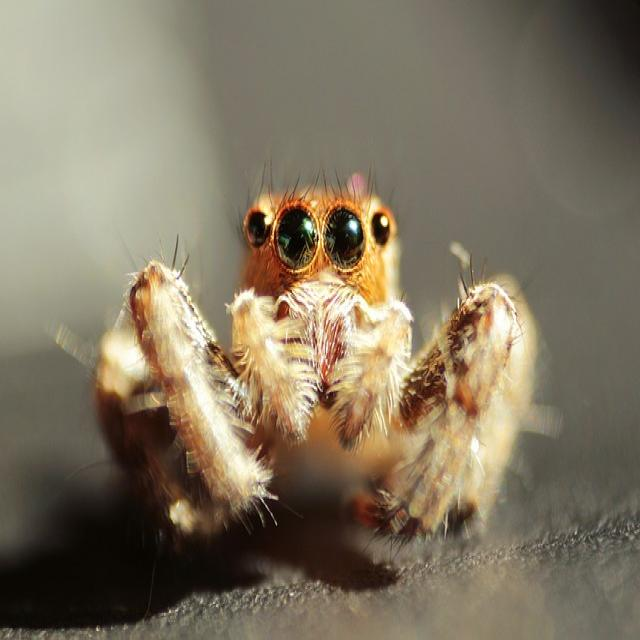spyder: (92, 174, 518, 538)
